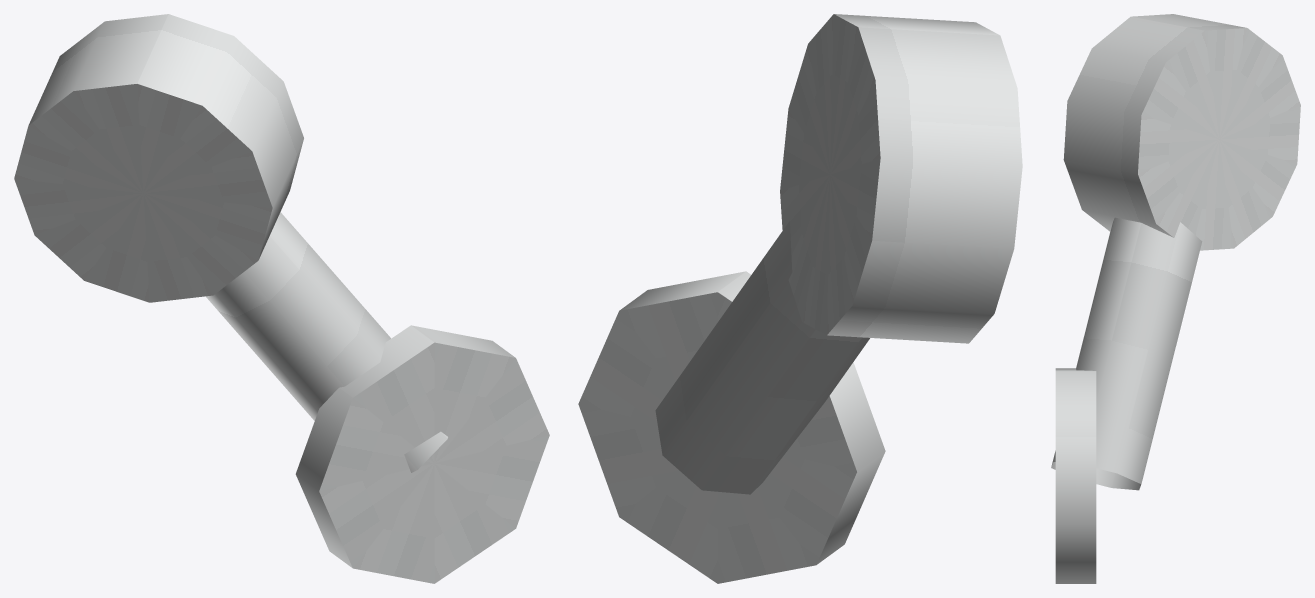
Rendered from nycsignalarm_stub_120.obj.
3 views of the same model, side by side, from view 1: azimuth 30°, elevation 25°; view 2: azimuth 150°, elevation 25°; view 3: azimuth 270°, elevation 25° (orthographic). The views are drawn at different scales.
Parts seen in each view (by area): view 1: nycsignalarm_stub_120; view 2: nycsignalarm_stub_120; view 3: nycsignalarm_stub_120.
Boxes of the visible parts, box(x1,y1,x2,y2) form: nycsignalarm_stub_120: box(14, 14, 549, 583); nycsignalarm_stub_120: box(578, 14, 1022, 583); nycsignalarm_stub_120: box(1051, 14, 1300, 583).
Size of the model in its own units: 0.6621 by 0.7979 by 0.3811.
